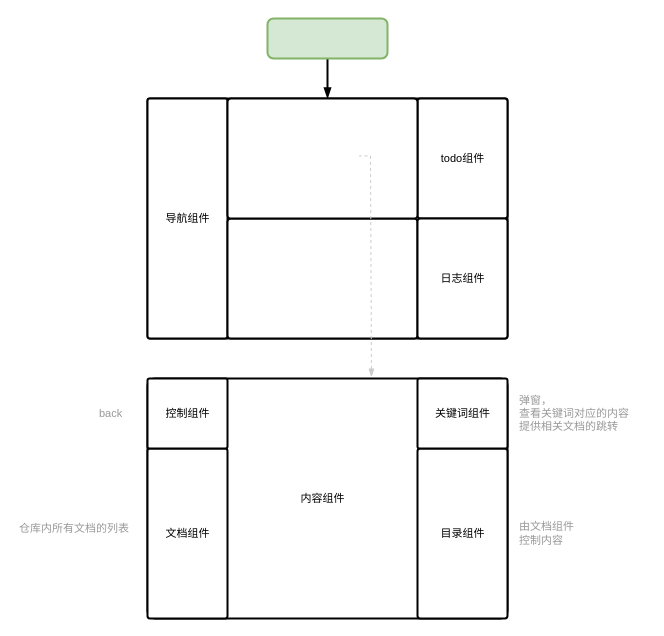
This 664x636 diagram has some shape labels left out. Each missing label, with the centre of its shape:
HomeView.vue: (x=327, y=38)
仓库组件: (x=322, y=158)
卡片组件: (x=322, y=278)
